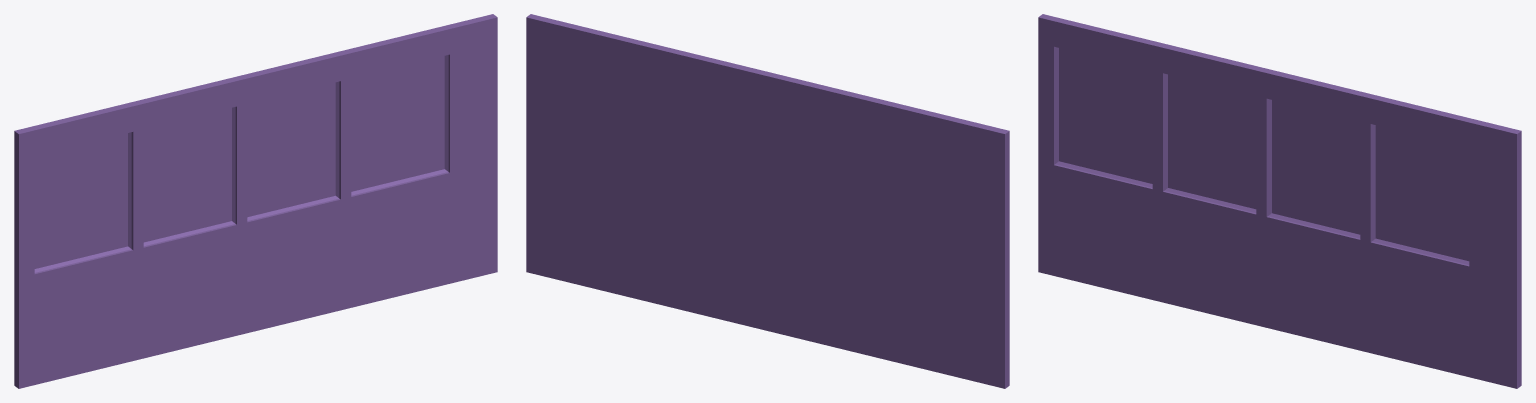
File: MOD_BAR BarWindowedWall.fbx
The picture shows the model from 3 angles, left to right: view 1: azimuth 30°, elevation 25°; view 2: azimuth 150°, elevation 25°; view 3: azimuth 330°, elevation 25°; orthographic projection.
Parts seen in each view (by area): view 1: WindowedWall; view 2: WindowedWall; view 3: WindowedWall.
Part boxes in pixels (x1,y1,x2,y2): WindowedWall: [14, 14, 497, 388]; WindowedWall: [526, 14, 1009, 388]; WindowedWall: [1038, 14, 1521, 388].
Size of the model in its own units: 600 by 305 by 10.
